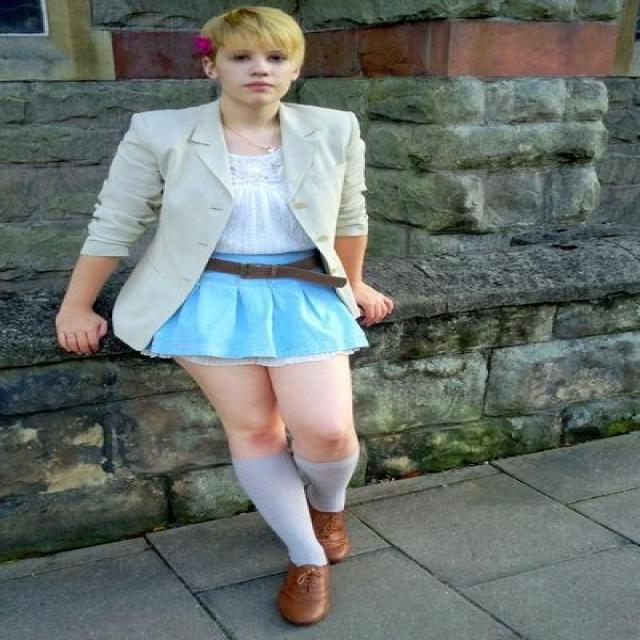jacket: (80, 90, 368, 357)
shirt: (211, 150, 314, 264)
shoe: (272, 499, 341, 626)
skirt: (152, 272, 368, 357)
